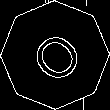O_SE: (22, 22, 88, 88)
